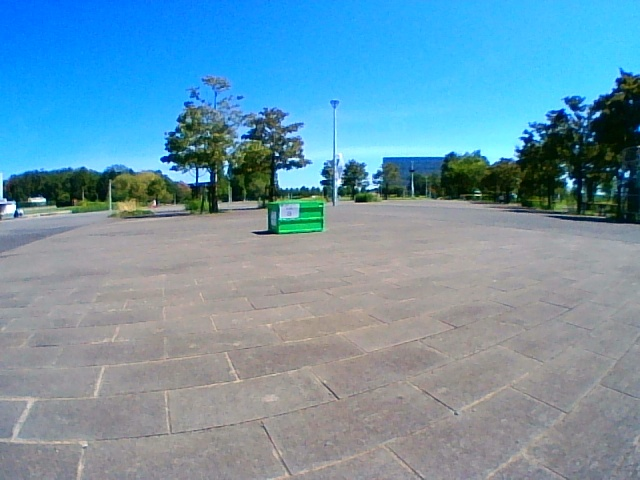green_box: (267, 201, 324, 233)
tag: (279, 204, 297, 219)
